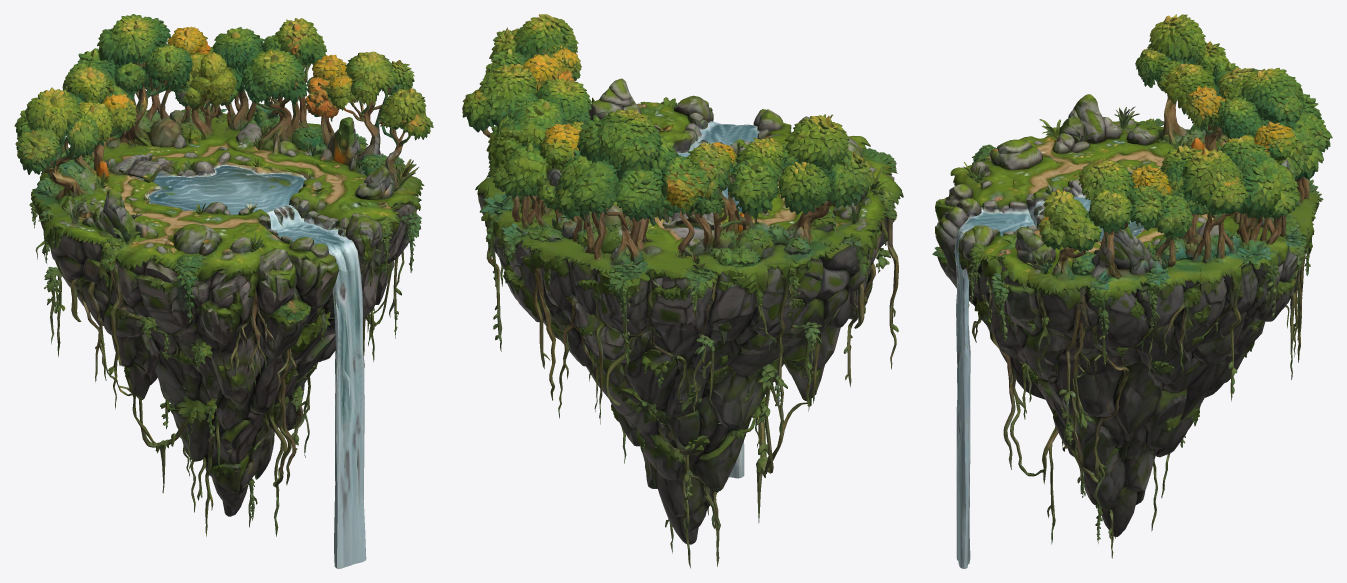
Rendered from falls.glb.
3 renders of one model, left to right at view 1: azimuth 30°, elevation 25°; view 2: azimuth 150°, elevation 25°; view 3: azimuth 270°, elevation 25°, orthographic. The views are drawn at different scales.
Visible parts, largest first — view 1: Mesh_0; view 2: Mesh_0; view 3: Mesh_0.
Boxes of the visible parts, x1,y1,x2,y2 form: Mesh_0: (14, 14, 433, 568); Mesh_0: (462, 14, 903, 568); Mesh_0: (932, 14, 1332, 568).
Bounding box in the file's own units: 1.56 × 1.89 × 1.46.
Materials: 1 (1 with a texture image).
